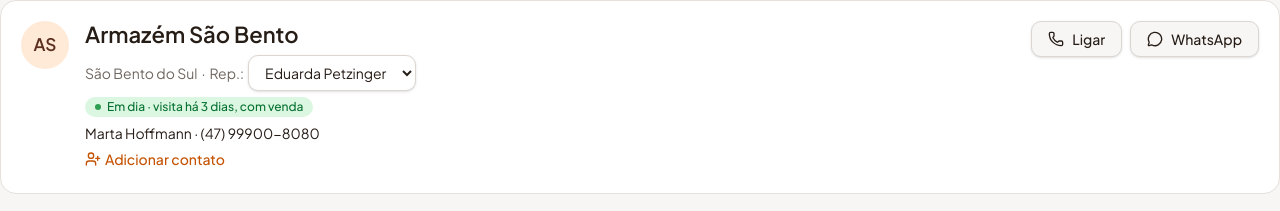
Scenario: CabecalhoCliente › gestor troca o representante pelo select e vê "Cliente transferido para Rafael"
Step 1. Select "Rafael Schmitt" in the dropdown named "Transferir cliente" → (332, 72), box [248,54,416,90]
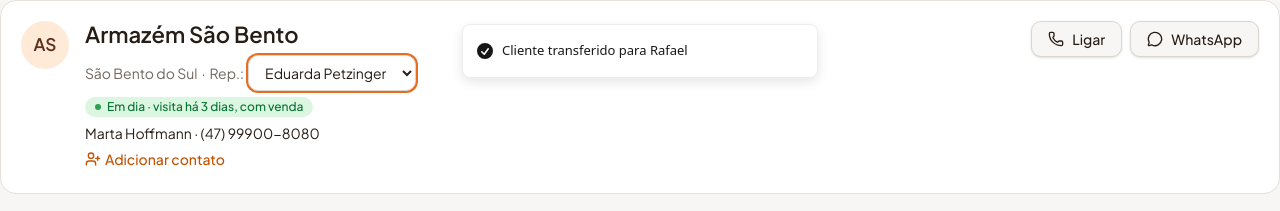
Now the text "Cliente transferido para Rafael" is shown, box [502,41,688,60]
